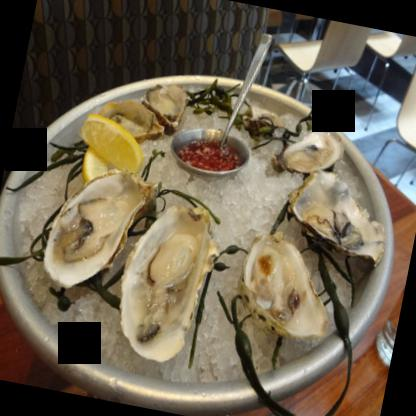oyster: (108, 190, 222, 371), (36, 159, 144, 295), (233, 224, 342, 346), (284, 167, 398, 271), (277, 118, 344, 178)
